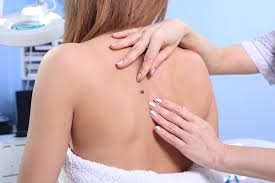mole: (138, 88, 146, 95)
